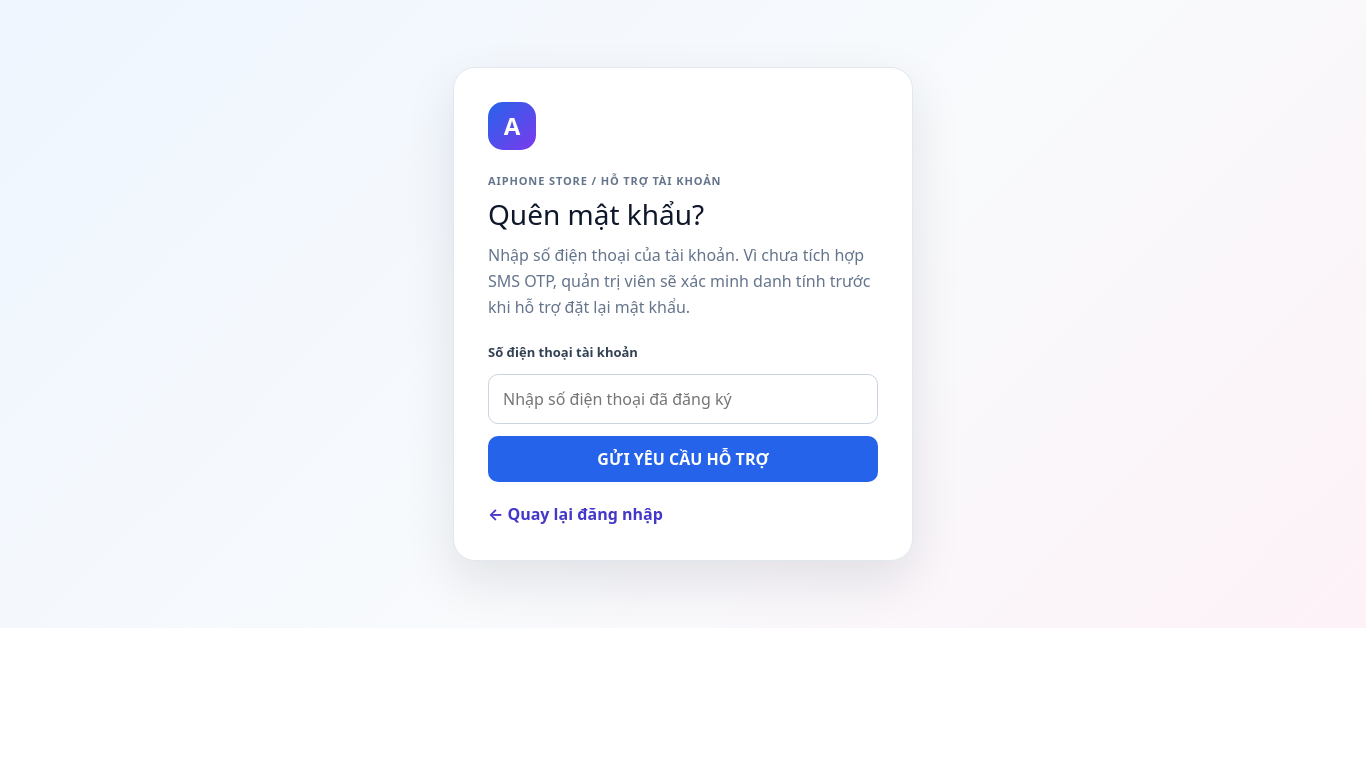
Test: submits a recovery request without revealing whether the phone exists
The image size is (1366, 768).
Step 1. Type "0901234567" into the field labelled "Số điện thoại tài khoản" → (683, 399), box [488,374,878,424]
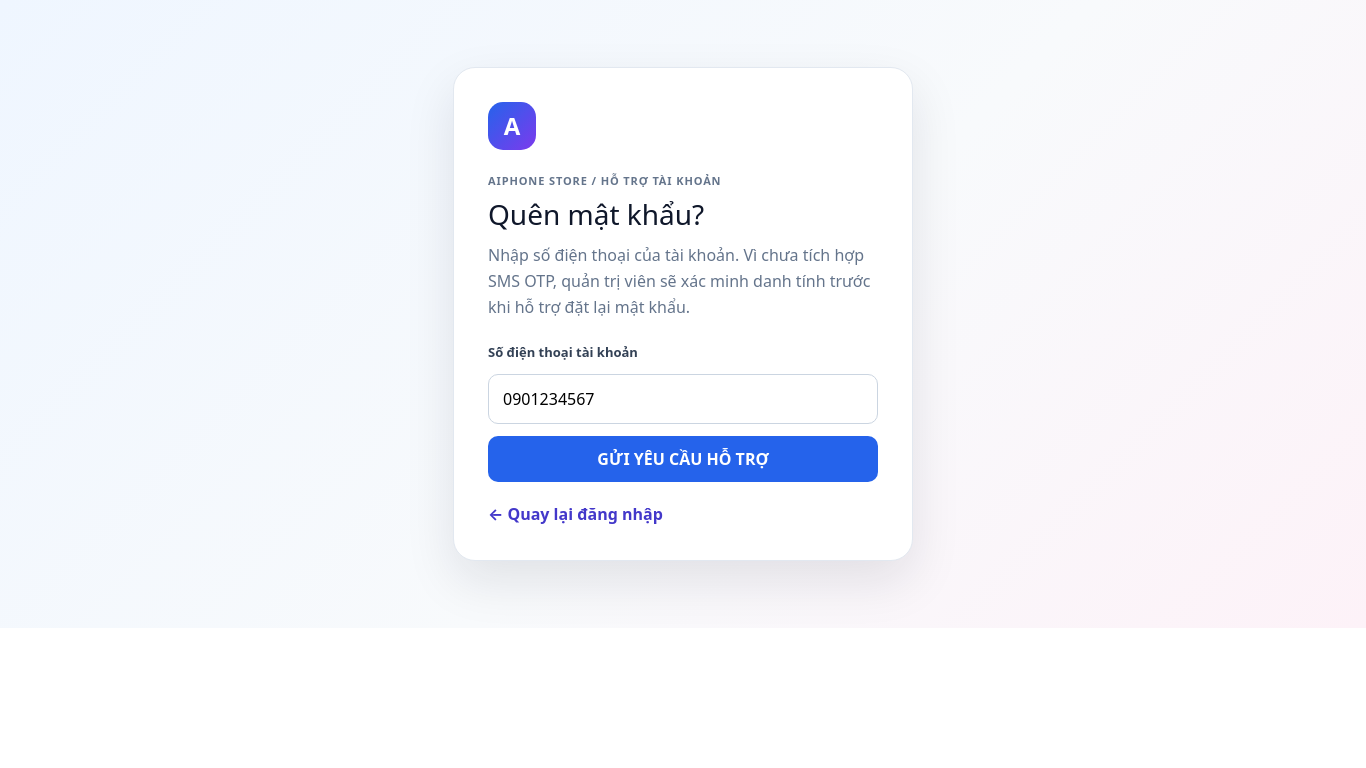
Step 2. Click the button "GỬI YÊU CẦU HỖ TRỢ" → (683, 459), box [488,436,878,482]
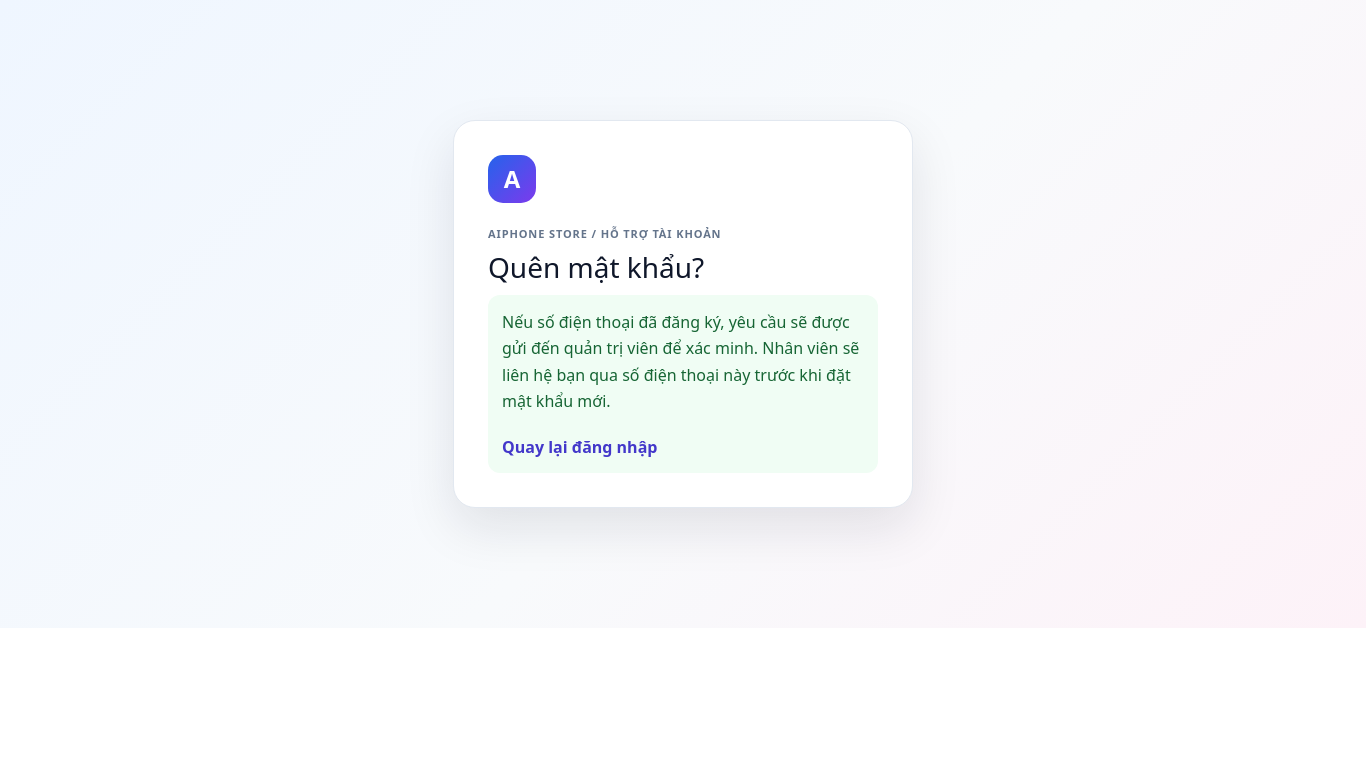
Check: the message shows "Nếu số điện thoại đã đăng ký", box [502,311,859,412]
